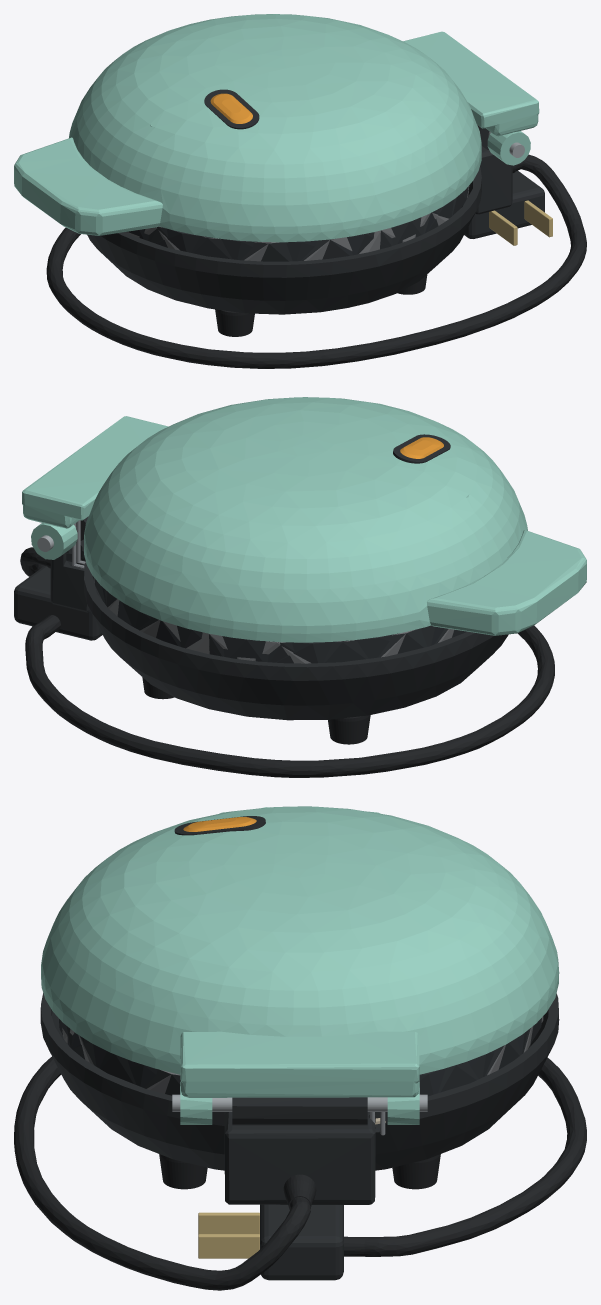
3 views of the same model, one above another, from view 1: azimuth 30°, elevation 25°; view 2: azimuth 150°, elevation 25°; view 3: azimuth 270°, elevation 25° (orthographic). The views are drawn at different scales.
Visible parts, largest first — view 1: Upper shell with paddle, Lower housing, Power lead jacket, Lower nonstick surface, Two blade plug body, Lower cooking plate, Support foot 1, Amber indicator lens, Indicator bezel, Plug blade 2, Plug blade 1; view 2: Upper shell with paddle, Lower housing, Power lead jacket, Lower nonstick surface, Two blade plug body, Lower cooking plate, Support foot 2, Amber indicator lens, Indicator bezel; view 3: Upper shell with paddle, Lower housing, Power lead jacket, Two blade plug body, Lower nonstick surface, Plug blade 2, Plug blade 1, Support foot 3, Support foot 4, Hinge axle, Cord strain relief, Lower cooking plate (+1 smaller).
Boxes of the visible parts, x1,y1,x2,y2 form: Upper shell with paddle: (14, 14, 539, 242); Lower housing: (87, 125, 512, 314); Power lead jacket: (46, 154, 586, 368); Lower nonstick surface: (127, 186, 468, 261); Two blade plug body: (464, 170, 544, 238); Lower cooking plate: (127, 185, 469, 261); Support foot 1: (215, 309, 254, 336); Amber indicator lens: (210, 93, 252, 123); Indicator bezel: (204, 89, 259, 129); Plug blade 2: (524, 200, 552, 237); Plug blade 1: (489, 210, 517, 245); Upper shell with paddle: (22, 397, 586, 642); Lower housing: (50, 517, 508, 720); Power lead jacket: (20, 547, 554, 777); Lower nonstick surface: (95, 579, 466, 663); Two blade plug body: (14, 566, 102, 640); Lower cooking plate: (94, 581, 453, 663); Support foot 2: (328, 715, 370, 744); Amber indicator lens: (400, 437, 443, 458); Indicator bezel: (393, 434, 450, 463); Upper shell with paddle: (41, 806, 559, 1124); Lower housing: (40, 993, 559, 1204); Power lead jacket: (14, 1056, 586, 1290); Two blade plug body: (260, 1204, 343, 1280); Lower nonstick surface: (59, 1018, 541, 1096); Plug blade 2: (198, 1234, 259, 1258); Plug blade 1: (198, 1212, 259, 1234); Support foot 3: (159, 1154, 207, 1189); Support foot 4: (392, 1154, 440, 1189); Hinge axle: (172, 1094, 427, 1111); Cord strain relief: (283, 1174, 316, 1209); Lower cooking plate: (62, 1016, 543, 1093).
Bounding box in the file's own units: 0.1837 × 0.0736 × 0.1437.
